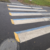zebra: (7, 4, 50, 41)
